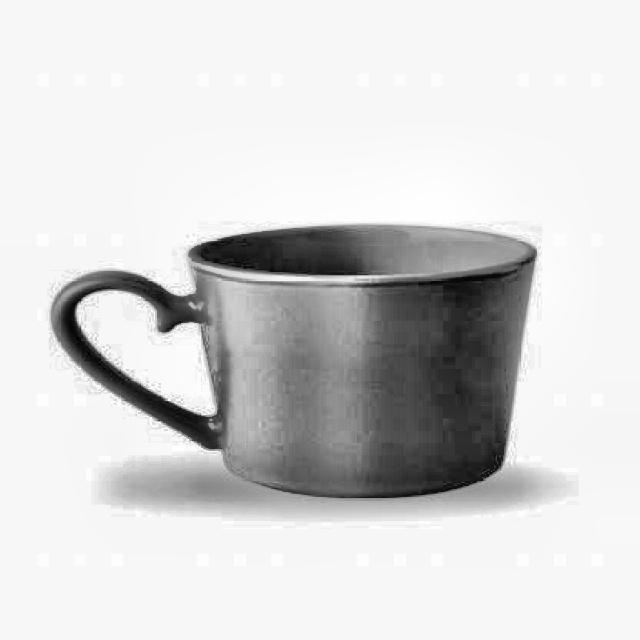Mug: (53, 225, 539, 500)
